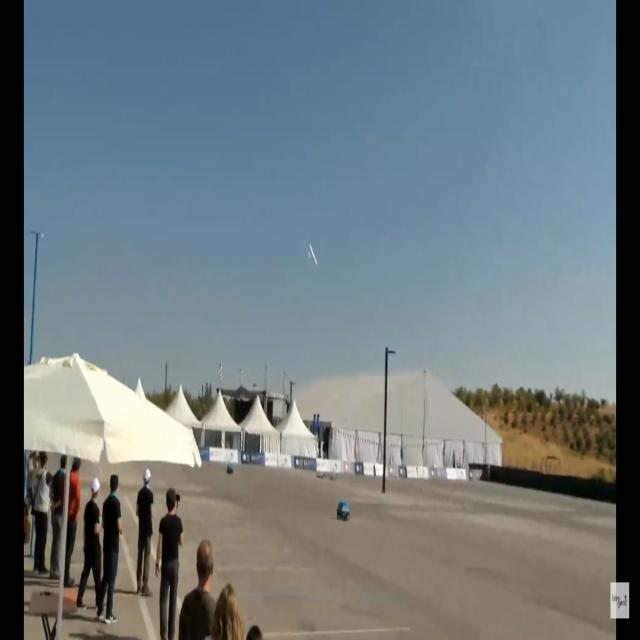iha: (310, 244, 315, 266)
